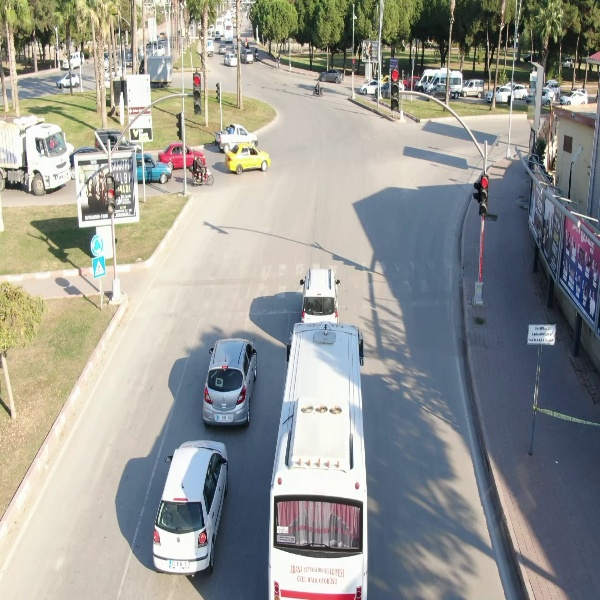car: (151, 437, 232, 577), (198, 336, 263, 427), (224, 141, 271, 177), (486, 85, 516, 104), (318, 66, 345, 84), (560, 89, 590, 105), (56, 72, 81, 89), (222, 52, 239, 70)
